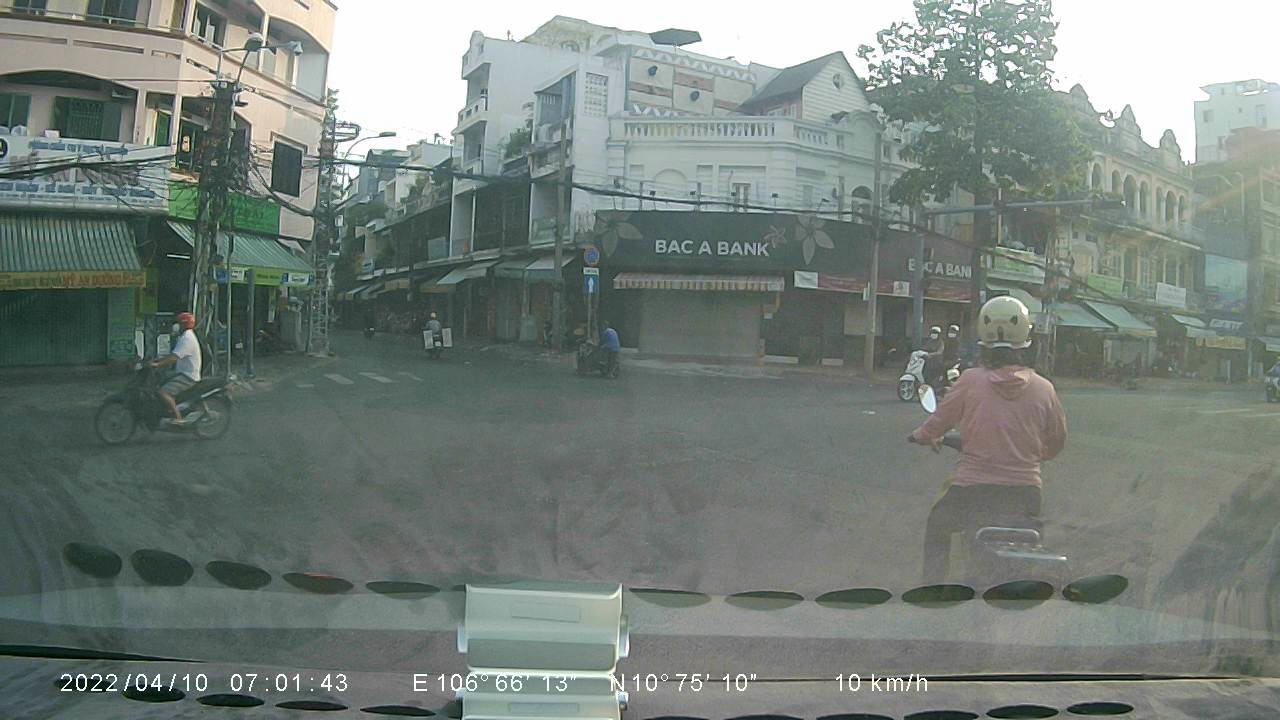Bien khac: (583, 272, 602, 294)
